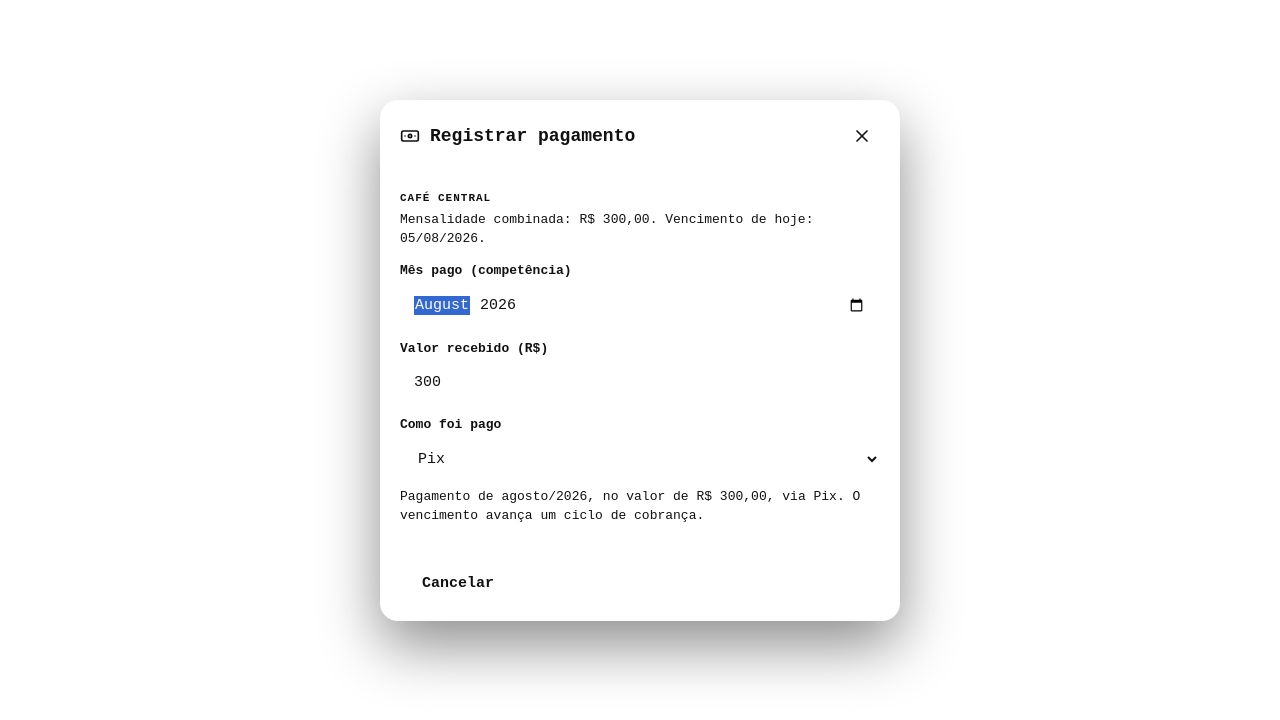
Test: ConfirmarRenovacaoModal, dar baixa na mensalidade › ecoa em português o que vai ser gravado, antes do clique
Select "Dinheiro" in the dropdown labelled "Como foi pago" at {"x": 640, "y": 459}, box [400, 438, 880, 480]
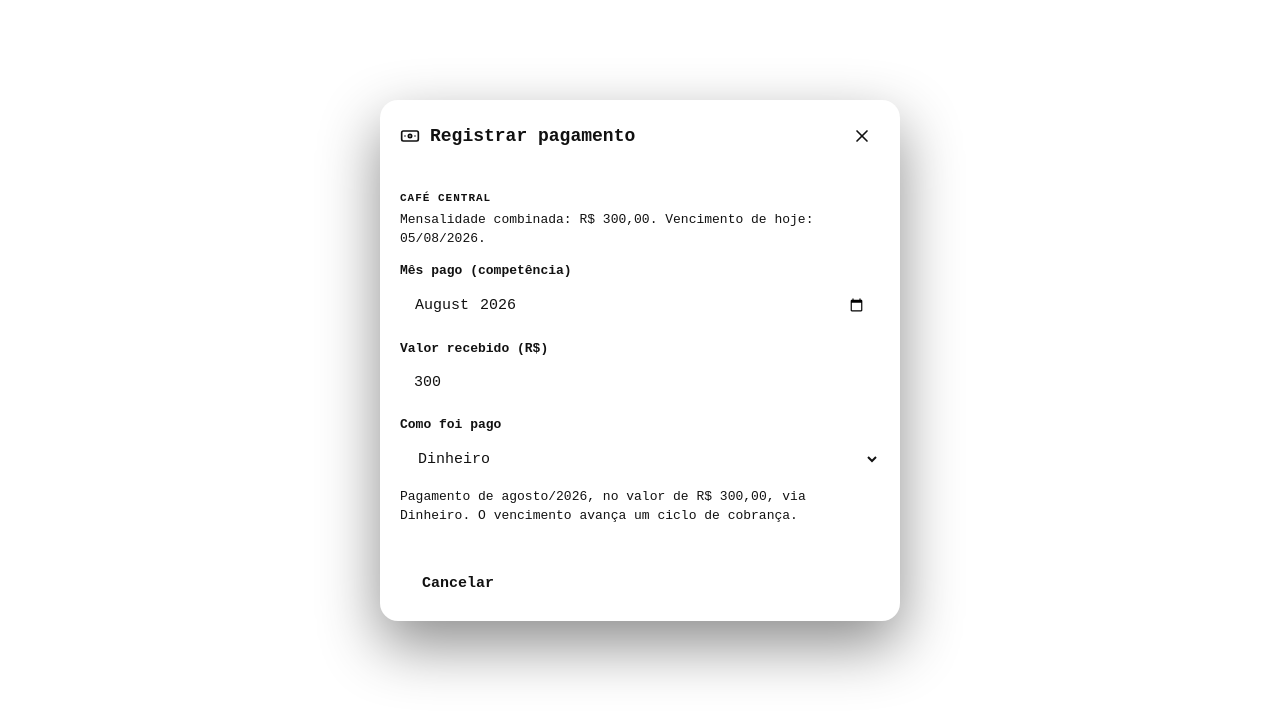
Check: the text "via Dinheiro" is shown, box [400, 488, 806, 523]
